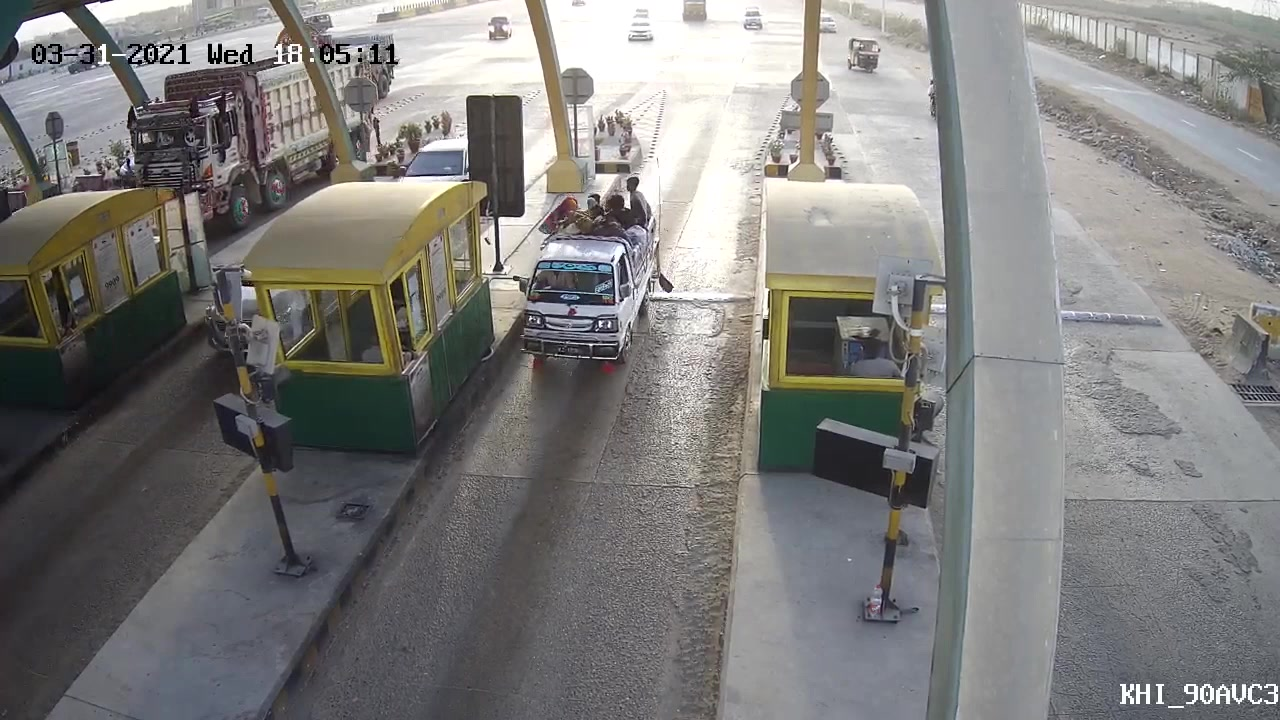F1: (508, 169, 666, 378)
